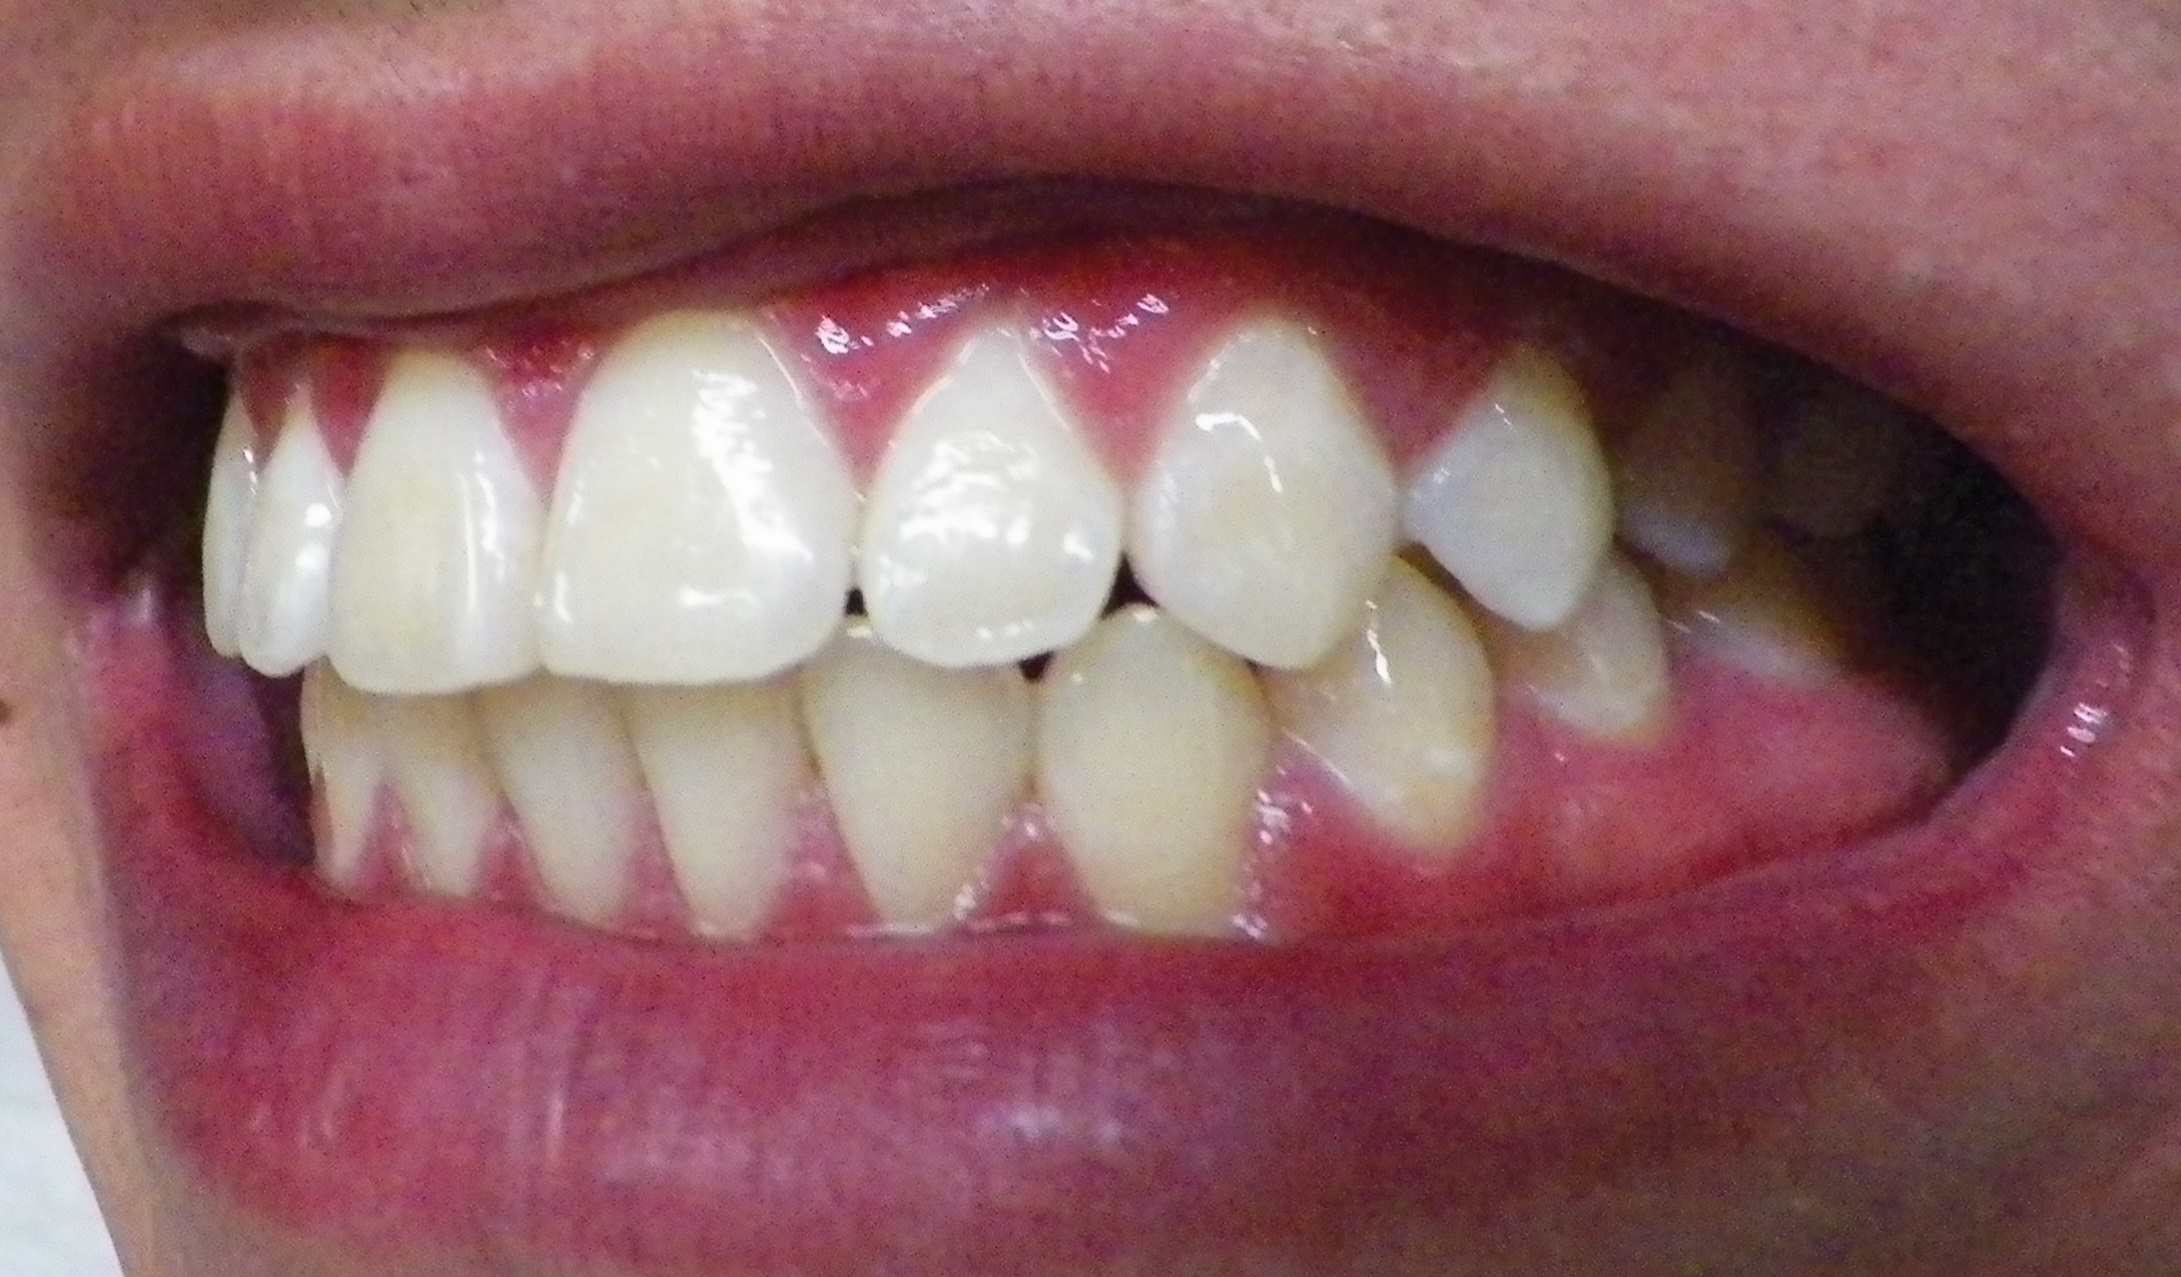boca: (179, 372, 1950, 938)
